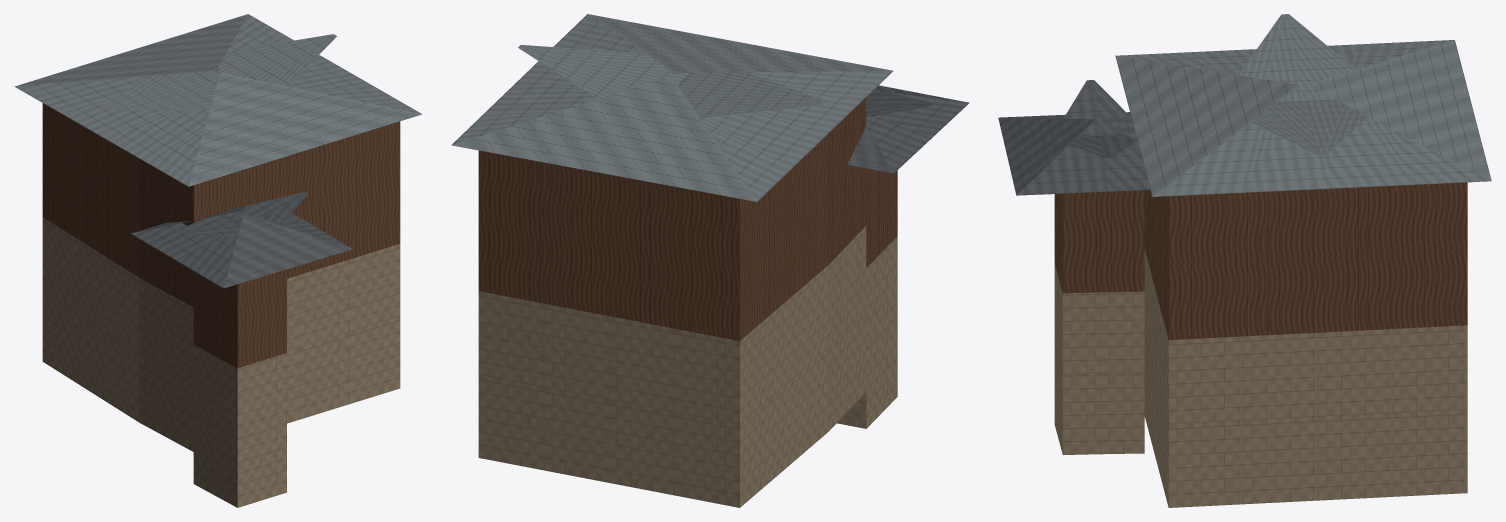
Rendered from bld_c31_47_248.gltf.
The picture shows the model from 3 angles, left to right: view 1: azimuth 30°, elevation 25°; view 2: azimuth 150°, elevation 25°; view 3: azimuth 270°, elevation 25°; orthographic projection. The views are drawn at different scales.
Visible parts, largest first — view 1: bld_c31_47_248; view 2: bld_c31_47_248; view 3: bld_c31_47_248.
Boxes of the visible parts, left/top/right/bottom form: bld_c31_47_248: left=14, top=14, right=421, bottom=507; bld_c31_47_248: left=451, top=14, right=969, bottom=507; bld_c31_47_248: left=998, top=14, right=1491, bottom=507.
Bounding box in the file's own units: 10.06 × 11.6 × 13.3.
4 materials, 4 textured.
